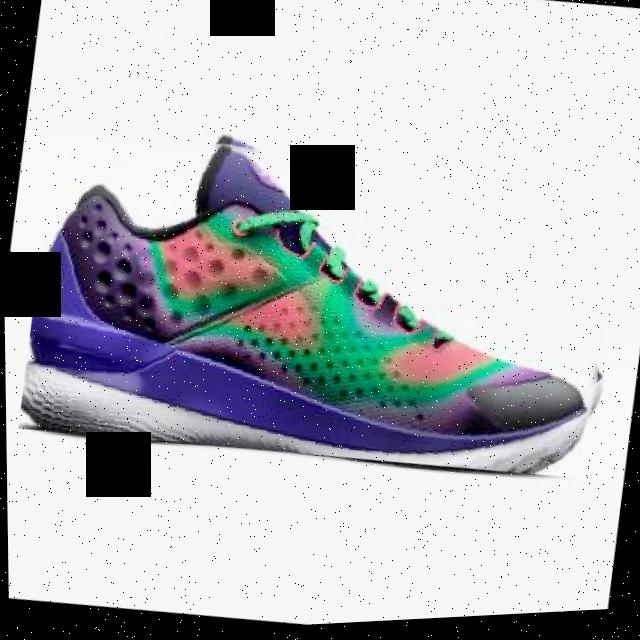shoe: (13, 96, 635, 510)
